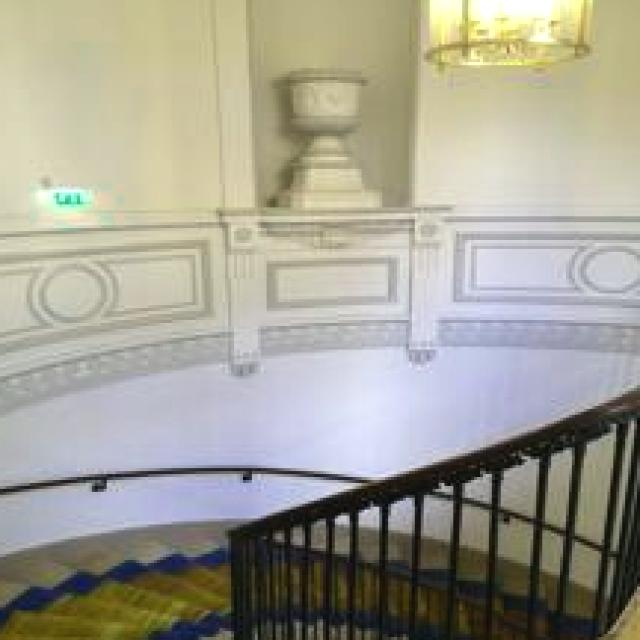downstair: (1, 460, 253, 640)
